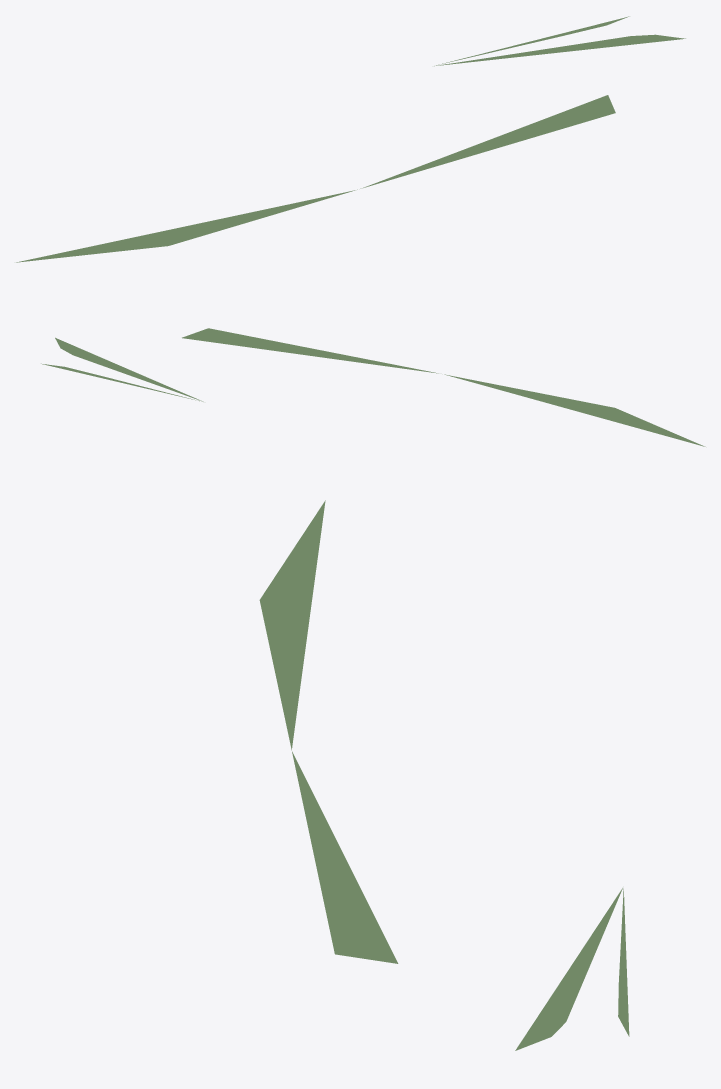
The model's file is c_1646_17834_parks.glb.
3 renders of one model, top to bottom at view 1: azimuth 30°, elevation 25°; view 2: azimuth 150°, elevation 25°; view 3: azimuth 270°, elevation 25°, orthographic. The views are drawn at different scales.
Parts seen in each view (by area): view 1: geometry_0; view 2: geometry_0; view 3: geometry_0.
Part boxes in pixels (x1,y1,x2,y2): geometry_0: [16, 16, 685, 262]; geometry_0: [41, 328, 705, 446]; geometry_0: [259, 500, 629, 1050].
Size of the model in its own units: 398 by 0 by 203.
